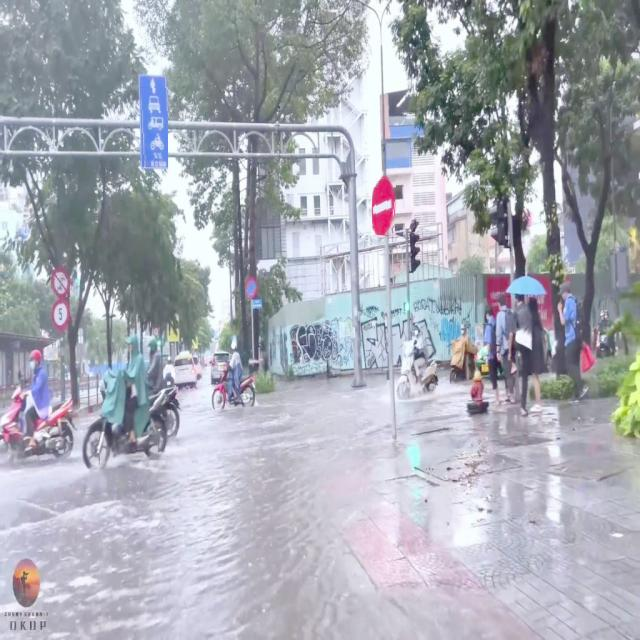cam_do_xe: (245, 277, 258, 299)
cam_xe_di_nguoc_chieu: (372, 177, 396, 235)
khac: (140, 76, 168, 168), (51, 266, 70, 297), (52, 300, 70, 329)
